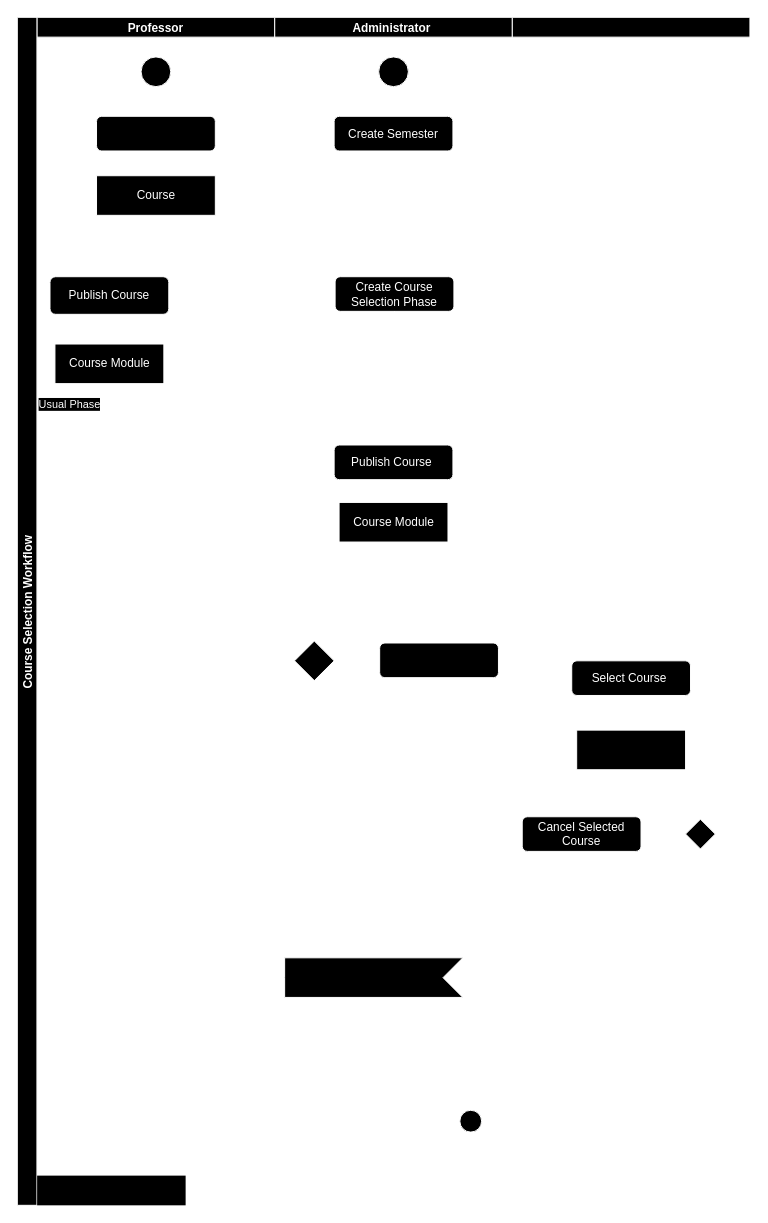
Image size: 768x1223. Some labels were removed from this diagram. Each missing label, with the box of its shape:
Course Selection Phase: (37, 1175, 185, 1205)
Delete Course Module: (379, 642, 498, 678)
End Course Selection: (284, 957, 463, 997)
Register Course: (96, 115, 215, 151)
Selected Course: (576, 729, 686, 770)
Student: (511, 16, 750, 1205)
